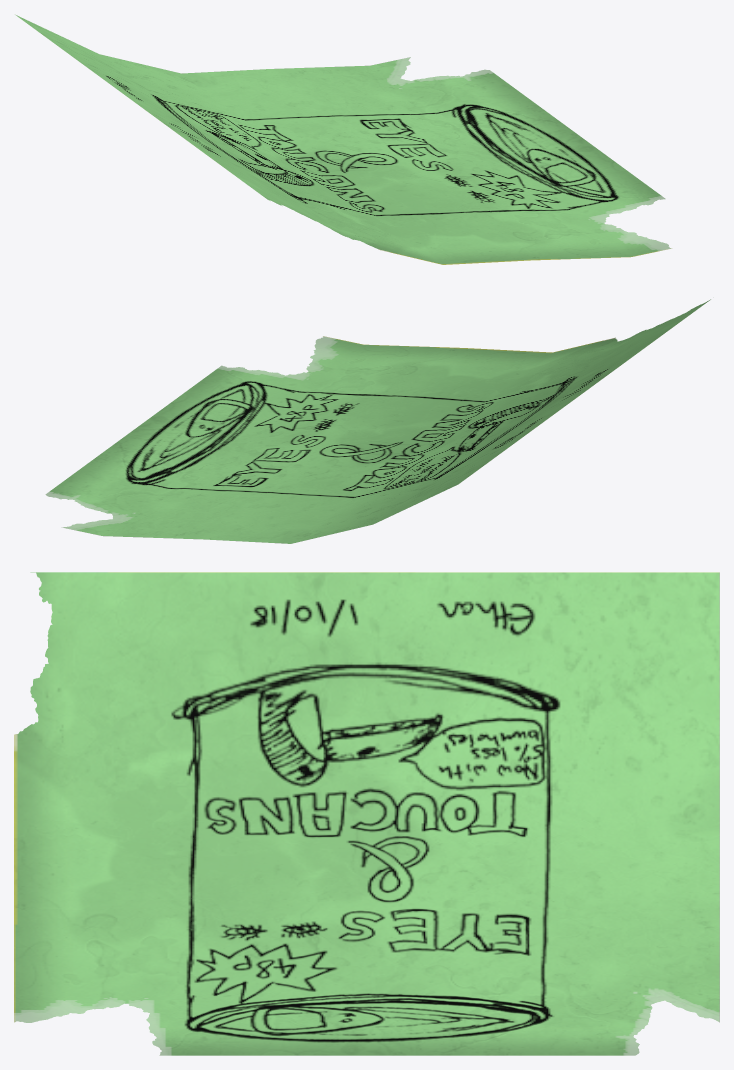
The model's file is SM_PostItNote_05.fbx.
3 views of the same model, one above another, from view 1: azimuth 30°, elevation 25°; view 2: azimuth 150°, elevation 25°; view 3: azimuth 270°, elevation 25° (orthographic). The views are drawn at different scales.
Parts seen in each view (by area): view 1: SM_PostItNote_05_LOD0; view 2: SM_PostItNote_05_LOD0; view 3: SM_PostItNote_05_LOD0.
Part boxes in pixels (box(x1,y1,x2,y2)): SM_PostItNote_05_LOD0: box(15, 14, 672, 264); SM_PostItNote_05_LOD0: box(45, 299, 710, 543); SM_PostItNote_05_LOD0: box(14, 572, 719, 1055).
Size of the model in its own units: 12.04 by 12.28 by 3.66.
Materials: 1 (1 with a texture image).
